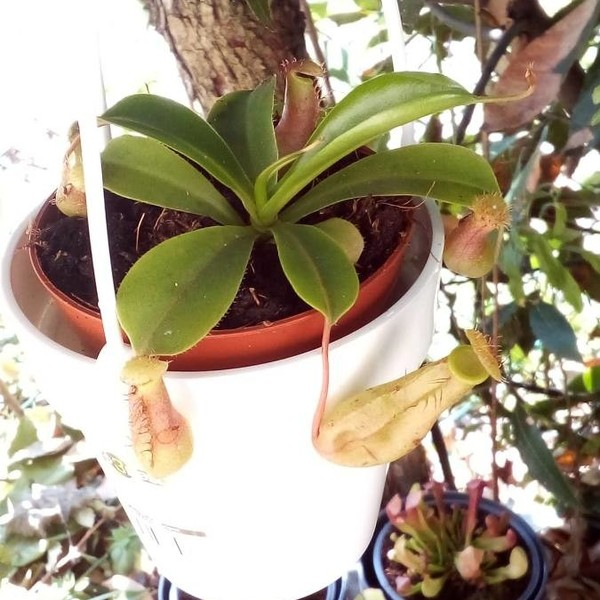obstacle: (69, 43, 492, 352)
